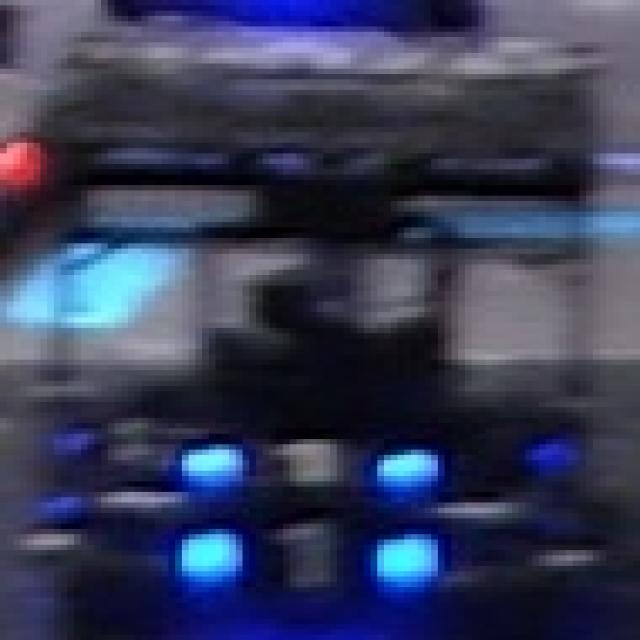B1: (178, 505, 454, 595), (178, 423, 434, 497)
